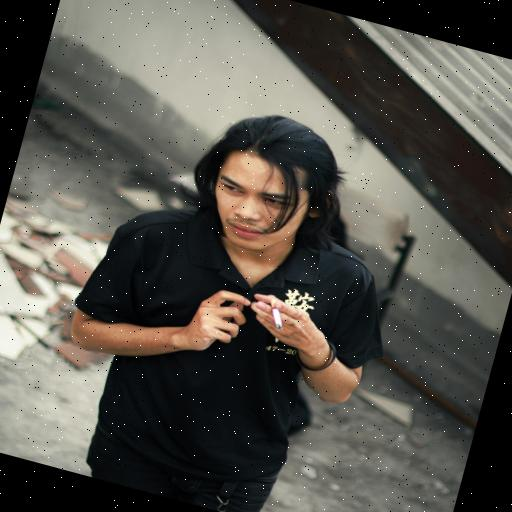terdeteksi pegang rokok: (222, 256, 334, 373)
